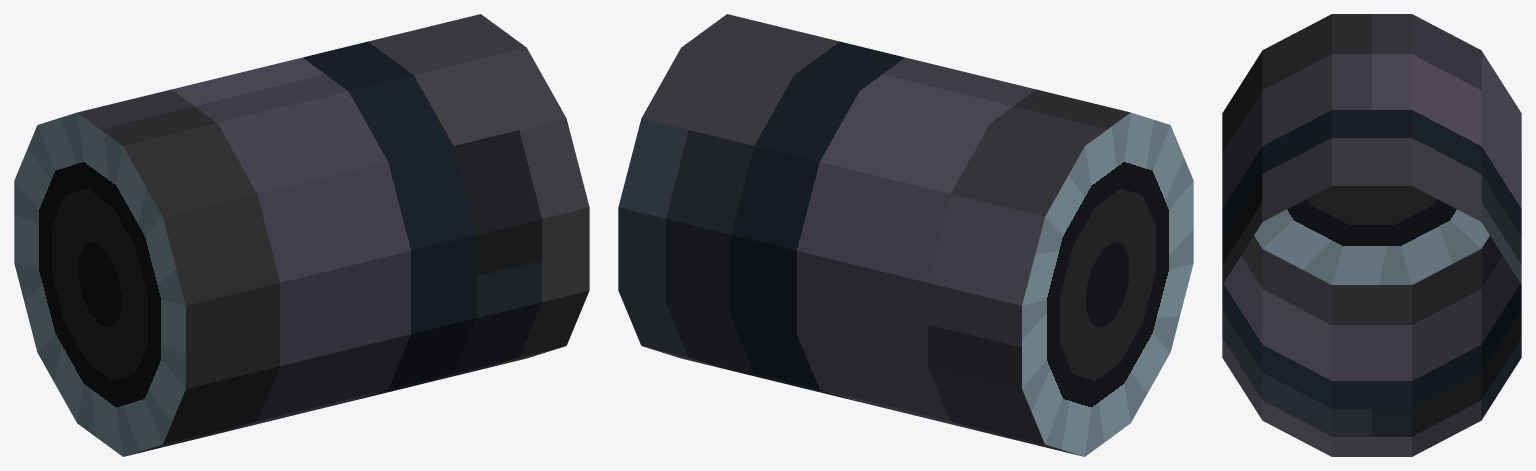
Rendered from tkz2_motor_pony_wheel.obj.
The picture shows the model from 3 angles, left to right: view 1: azimuth 30°, elevation 25°; view 2: azimuth 150°, elevation 25°; view 3: azimuth 270°, elevation 25°; orthographic projection. The views are drawn at different scales.
Visible parts, largest first — view 1: 电机轮; view 2: 电机轮; view 3: 电机轮.
Part boxes in pixels (x1,y1,x2,y2): 电机轮: (14, 14, 589, 456); 电机轮: (618, 14, 1193, 456); 电机轮: (1222, 14, 1521, 456).
Bounding box in the file's own units: 0.1948 × 0.1433 × 0.1433.
